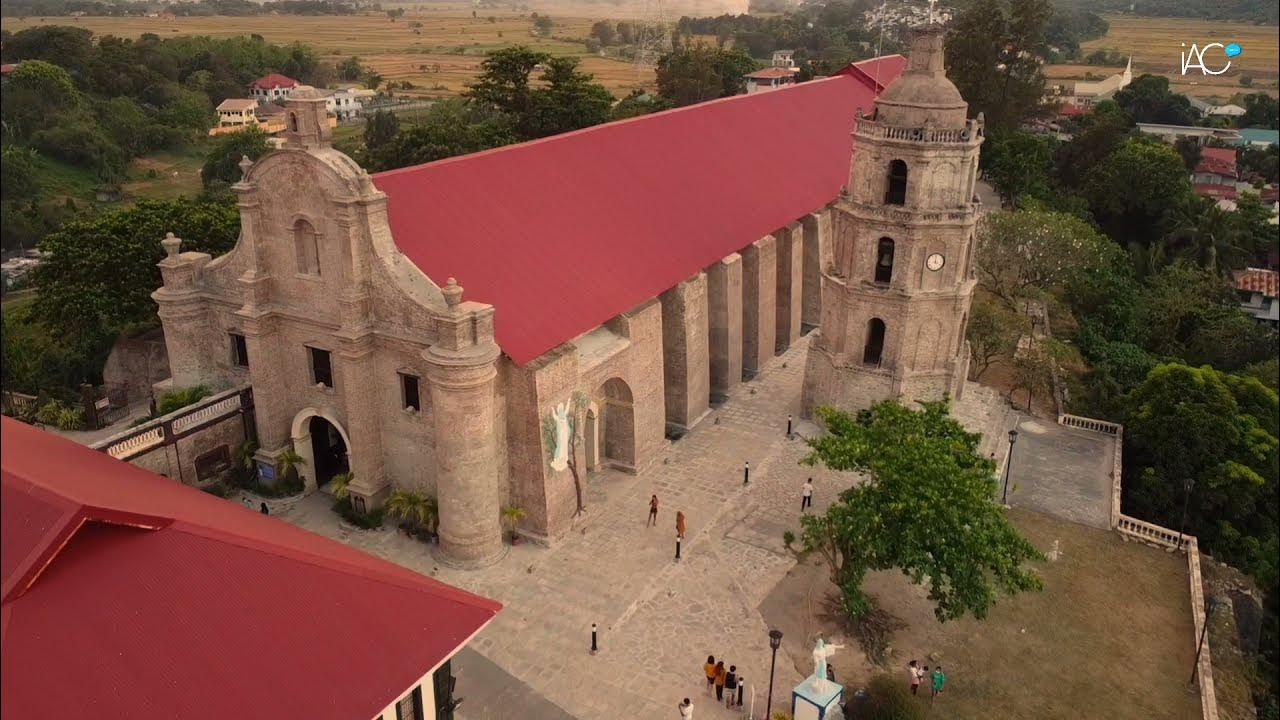santa_maria_church_santa_maria_ilocos_sur: (138, 90, 515, 583)
